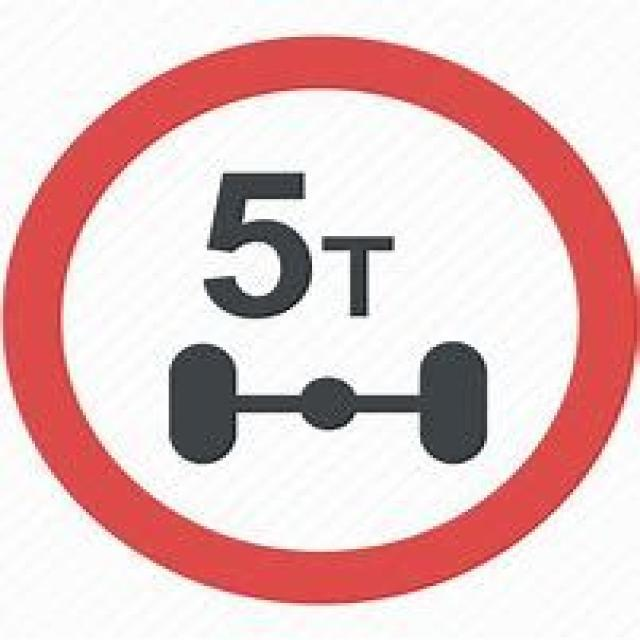axle load limit: (9, 29, 624, 599)
